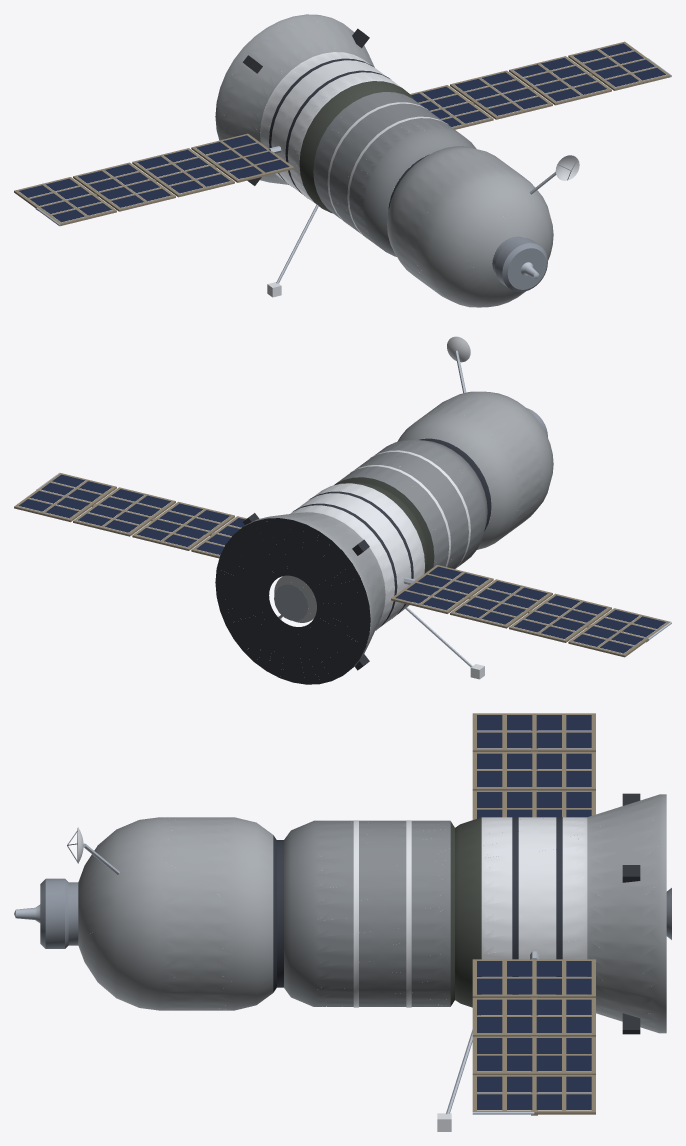
File: progress-ms.glb
3 renders of one model, top to bottom at view 1: azimuth 30°, elevation 25°; view 2: azimuth 150°, elevation 25°; view 3: azimuth 270°, elevation 25°, orthographic. The views are drawn at different scales.
Visible parts, largest first — view 1: foil, body, solar-panel; view 2: body, foil, solar-panel; view 3: foil, body, solar-panel.
Boxes of the visible parts, x1=… form: foil: x1=215, y1=14, x2=553, y2=307; body: x1=14, y1=28, x2=671, y2=297; solar-panel: x1=19, y1=43, x2=665, y2=222; body: x1=14, y1=336, x2=671, y2=684; foil: x1=245, y1=391, x2=553, y2=671; solar-panel: x1=19, y1=474, x2=666, y2=653; foil: x1=78, y1=794, x2=666, y2=1033; body: x1=14, y1=713, x2=671, y2=1131; solar-panel: x1=477, y1=715, x2=591, y2=1109.
Size of the model in its own units: 10.73 by 3.37 by 7.46.
